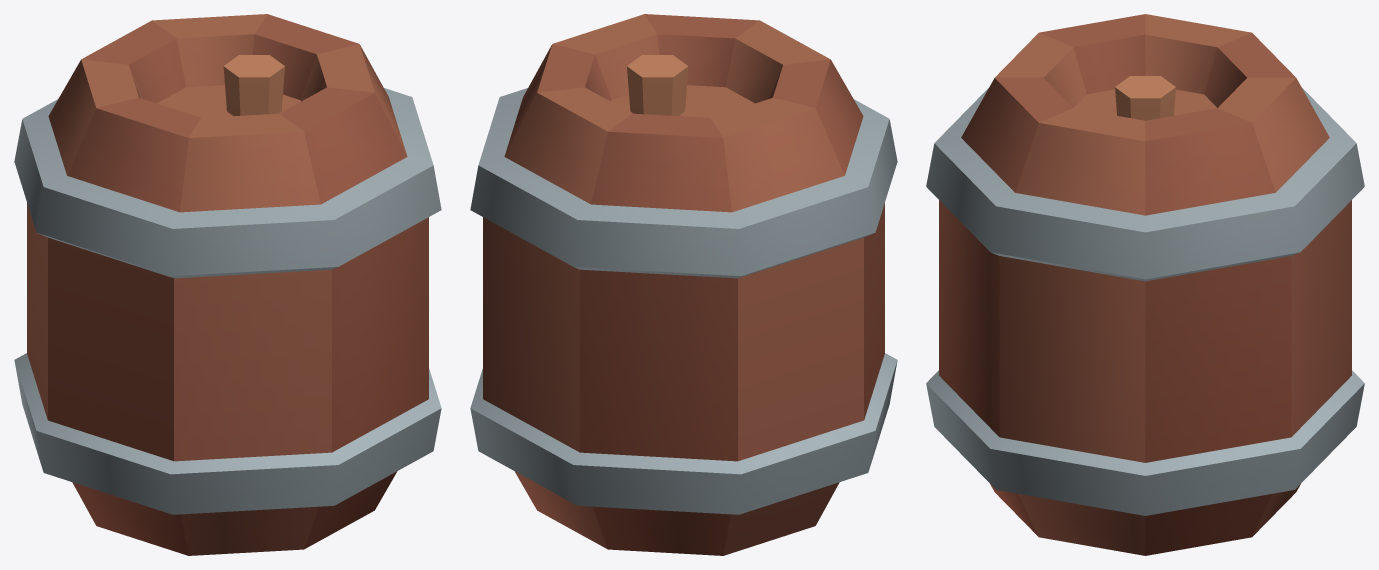
Rendered from barril1.glb.
3 views of the same model, side by side, from view 1: azimuth 30°, elevation 25°; view 2: azimuth 150°, elevation 25°; view 3: azimuth 270°, elevation 25° (orthographic).
Parts seen in each view (by area): view 1: barrel; view 2: barrel; view 3: barrel.
Part boxes in pixels (bbox=[...]): barrel: bbox=[14, 14, 441, 555]; barrel: bbox=[470, 14, 897, 555]; barrel: bbox=[926, 14, 1364, 555].
Size of the model in its own units: 0.2015 by 0.2117 by 0.2015.
Materials: 1 (1 with a texture image).
